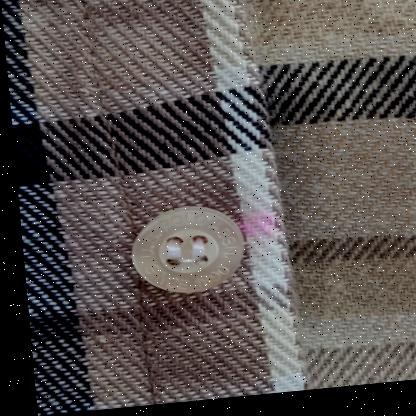spot: (237, 202, 283, 255)
